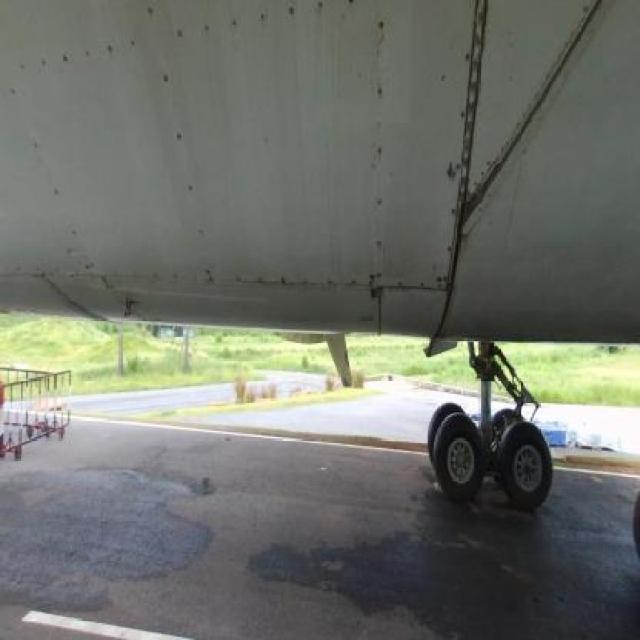Missing-Rivet: (153, 40, 218, 283), (198, 258, 399, 316), (52, 22, 265, 64), (373, 12, 395, 280)
Rust: (442, 151, 462, 197)
